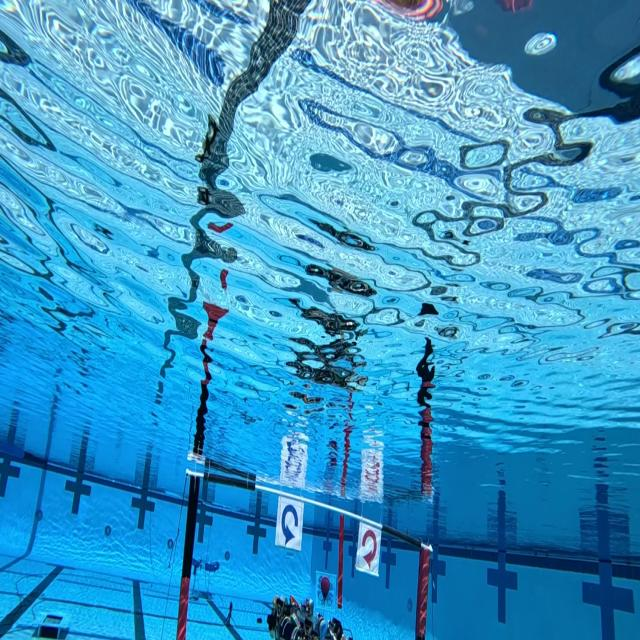blue_side: (274, 494, 306, 552)
red_side: (354, 521, 382, 578)
